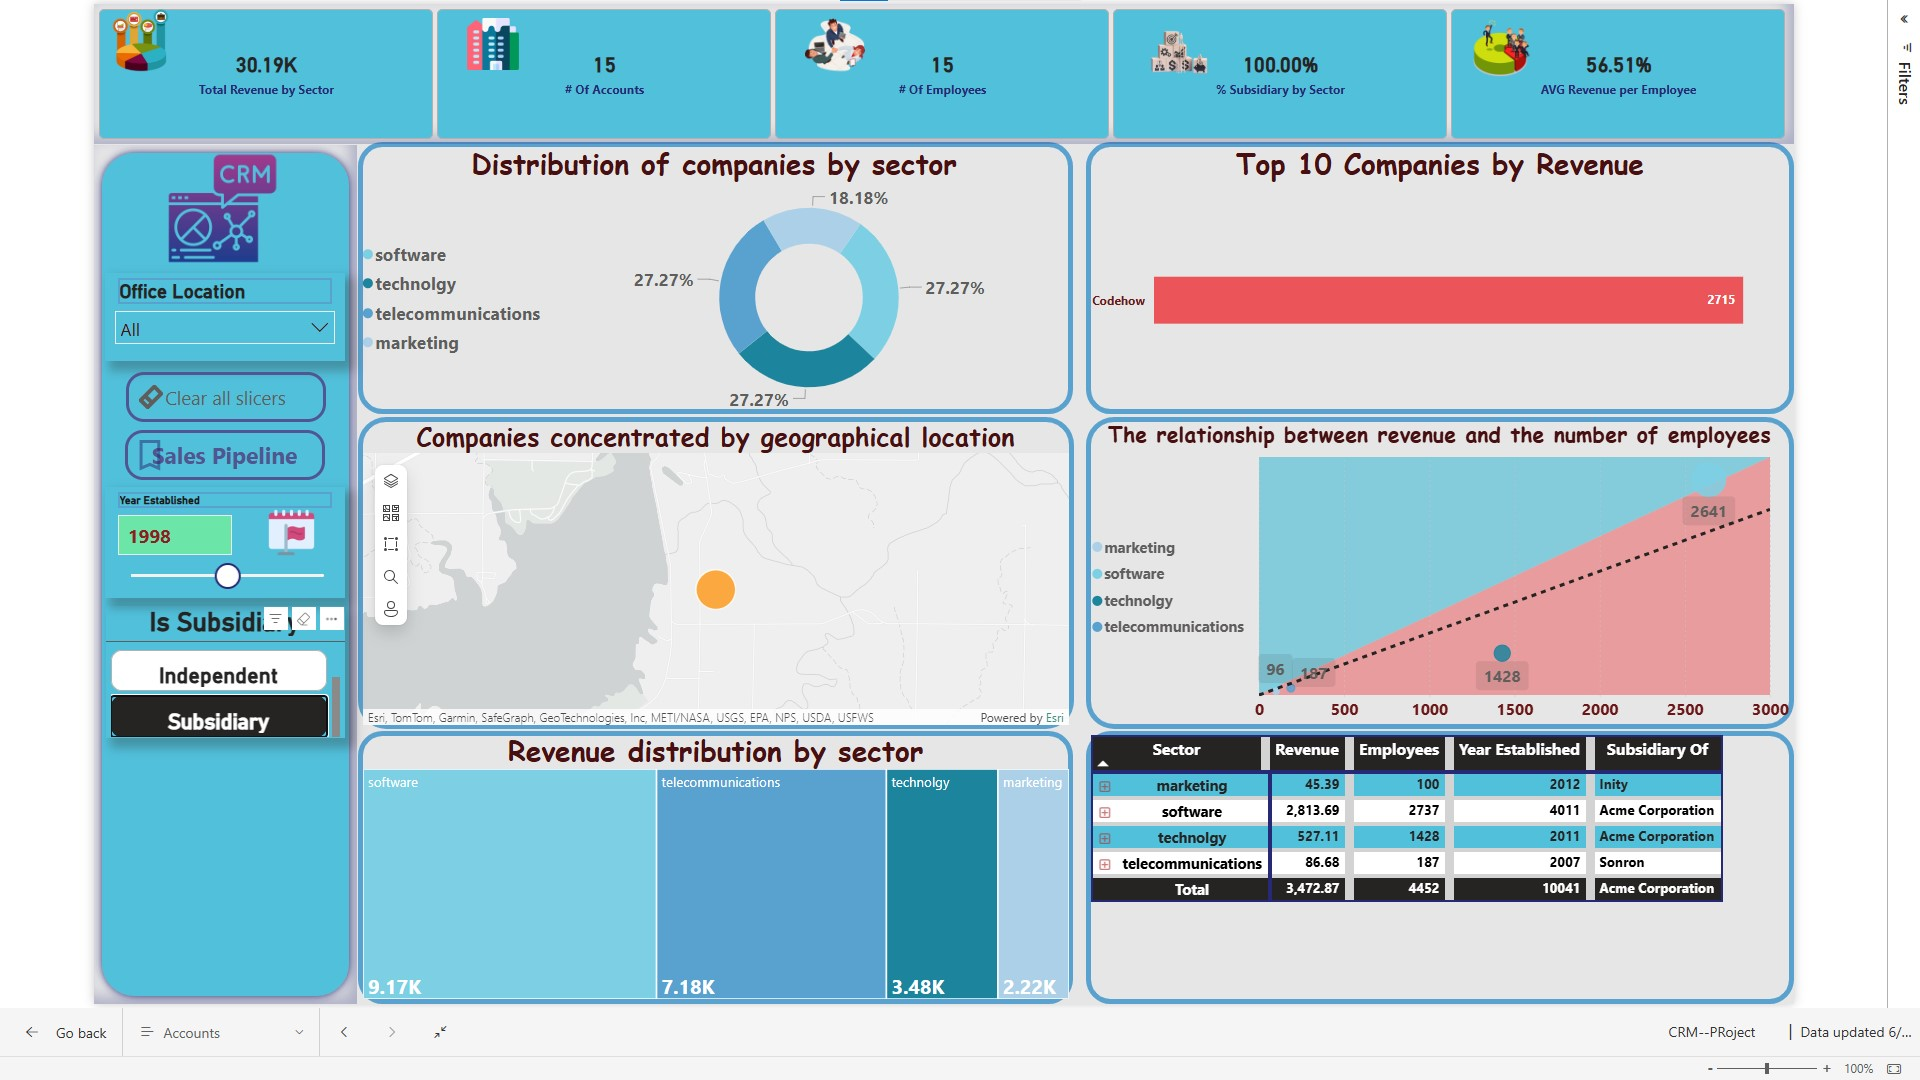

The page's visual inventory and layout, read from the dashboard file:
{"tool":"powerbi","page":{"name":"Accounts","canvas":[1700,1000],"ordinal":1},"visuals":[{"type":"shape","box":[264.2,727.3,714.7,273.1],"z":0},{"type":"shape","box":[0,141.5,263.4,858.5],"z":1000},{"type":"shape","box":[991.6,412.7,708.4,312.1],"z":3000},{"type":"shape","box":[991.6,727.3,708.4,273.1],"z":4000},{"type":"shape","box":[264.2,412.7,716,312.1],"z":5000},{"type":"shape","box":[264.2,138.4,714.7,271.8],"z":6000},{"type":"shape","box":[991.6,138.4,708.4,271.8],"z":7000},{"type":"cardVisual","fields":{"Data":["Subsidiary Of.Total Revenue by Sector","Subsidiary Of.Total-Accounts","Subsidiary Of.# Of Employees","Subsidiary Of.% Subsidiary by Sector","Avg(Subsidiary Of.Revenue per Employee)"]},"box":[0,0,1700,140.2],"z":8000},{"type":"donutChart","title":"Distribution of companies by sector","fields":{"Category":["Subsidiary Of.Sector"],"Y":["CountNonNull(Subsidiary Of.Account)"]},"box":[262.3,139.3,717,274.2],"z":9000},{"type":"esriVisual","title":"Companies concentrated by geographical location","fields":{"Location":["Subsidiary Of.Office Location"],"Size":["Sum(Subsidiary Of.Revenue)"]},"box":[263.8,413.5,715.9,312.7],"z":10000},{"type":"clusteredBarChart","title":"Top 10 Companies by Revenue","fields":{"Category":["Subsidiary Of.Account"],"Y":["Sum(Subsidiary Of.Revenue)"]},"box":[991.5,139.3,709.9,274.2],"z":11000},{"type":"scatterChart","title":"The relationship between revenue and the number of employees","fields":{"Size":["Sum(Subsidiary Of.Revenue)"],"Y":["Sum(Subsidiary Of.Revenue)"],"Category":["Subsidiary Of.Employees"],"Series":["Subsidiary Of.Sector"],"X":["Sum(Subsidiary Of.Employees)"]},"box":[991.5,413.5,708.5,312.7],"z":12000},{"type":"slicer","fields":{"Values":["Subsidiary Of.Office Location"]},"box":[10.6,269.3,240.1,87.4],"z":13000},{"type":"treemap","title":"Revenue distribution by sector","fields":{"Group":["Subsidiary Of.Sector"],"Values":["Sum(Subsidiary Of.Revenue)"]},"box":[263.8,726.2,715.9,274.2],"z":14000},{"type":"pivotTable","fields":{"Rows":["Subsidiary Of.Sector","Subsidiary Of.Account"],"Values":["Sum(Subsidiary Of.Revenue)","Sum(Subsidiary Of.Employees)","Sum(Subsidiary Of.Year Established)","Min(Subsidiary Of.Subsidiary Of)"]},"box":[991.5,726.2,708.5,272.7],"z":15000},{"type":"actionButton","box":[30.8,426.2,200,50],"z":16000},{"type":"actionButton","box":[32,367.6,200,50],"z":17000},{"type":"slicer","fields":{"Values":["Year Established Parameter.Year Established Parameter"]},"box":[11,482.9,240.2,111],"z":18000},{"type":"advancedSlicerVisual","fields":{"Values":["Subsidiary Of.Is Subsidiary"]},"box":[12.3,601.6,239.1,132.7],"z":19000},{"type":"image","box":[10.4,138,240.3,130.5],"z":19001},{"type":"image","box":[3.7,0,85.4,79.3],"z":19002},{"type":"image","box":[343.9,8.5,111,62.2],"z":19003},{"type":"image","box":[681.7,8.5,118.3,70.7],"z":19004},{"type":"image","box":[1020.7,0,128,79.3],"z":19005},{"type":"image","box":[1358.5,8.5,97.6,70.7],"z":19006},{"type":"image","box":[165.9,500,64.6,57.3],"z":19007}]}

Visuals, with their boxes on the page's 1700x1000 design canvas (x1, y1, x2, y2). These are canvas units, not pixel positions in the 1920x1080 screenshot, which may show the page scaled, cropped or inside an application window:
shape: box=[264, 727, 979, 1000]
shape: box=[0, 142, 263, 1000]
shape: box=[992, 413, 1700, 725]
shape: box=[992, 727, 1700, 1000]
shape: box=[264, 413, 980, 725]
shape: box=[264, 138, 979, 410]
shape: box=[992, 138, 1700, 410]
cardVisual - Subsidiary Of.Total Revenue by Sector x Subsidiary Of.Total-Accounts: box=[0, 0, 1700, 140]
"Distribution of companies by sector" donutChart: box=[262, 139, 979, 414]
"Companies concentrated by geographical location" esriVisual: box=[264, 414, 980, 726]
"Top 10 Companies by Revenue" clusteredBarChart: box=[992, 139, 1701, 414]
"The relationship between revenue and the number of employees" scatterChart: box=[992, 414, 1700, 726]
slicer - Subsidiary Of.Office Location: box=[11, 269, 251, 357]
"Revenue distribution by sector" treemap: box=[264, 726, 980, 1000]
pivotTable - Subsidiary Of.Sector x Subsidiary Of.Account: box=[992, 726, 1700, 999]
actionButton: box=[31, 426, 231, 476]
actionButton: box=[32, 368, 232, 418]
slicer - Year Established Parameter.Year Established Parameter: box=[11, 483, 251, 594]
advancedSlicerVisual - Subsidiary Of.Is Subsidiary: box=[12, 602, 251, 734]
image: box=[10, 138, 251, 268]
image: box=[4, 0, 89, 79]
image: box=[344, 8, 455, 71]
image: box=[682, 8, 800, 79]
image: box=[1021, 0, 1149, 79]
image: box=[1358, 8, 1456, 79]
image: box=[166, 500, 230, 557]
